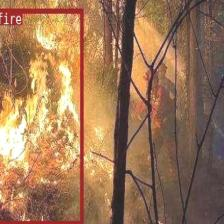fire: (0, 7, 82, 224)
